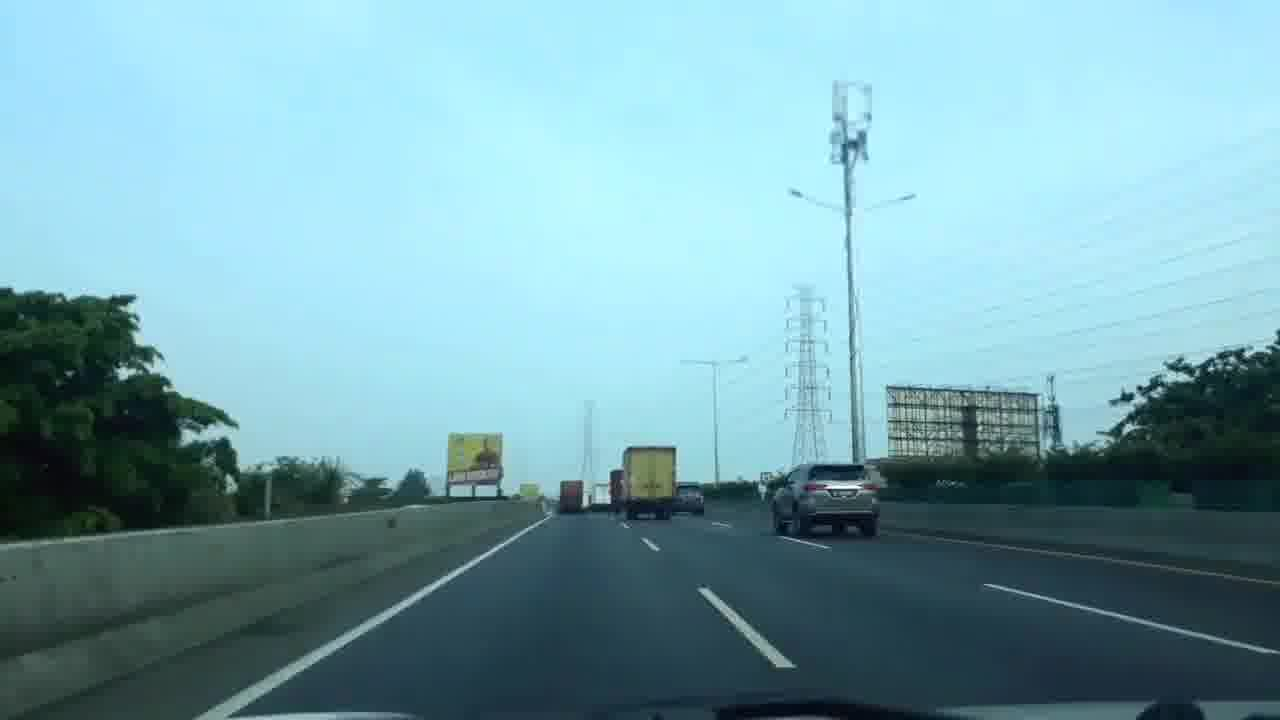plate_positive: (832, 490, 855, 497)
